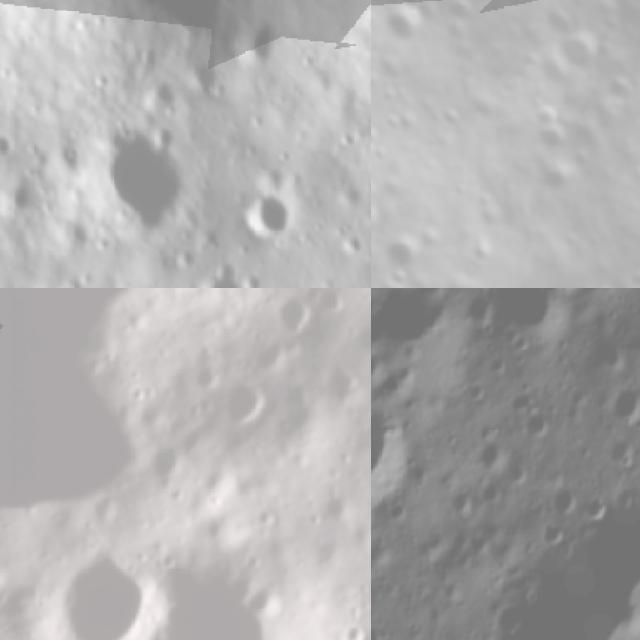crater: (0, 288, 265, 530), (80, 122, 201, 245), (138, 560, 289, 640), (57, 542, 163, 640), (83, 0, 260, 50), (371, 288, 468, 366), (371, 381, 428, 512), (479, 288, 584, 359), (567, 322, 633, 385), (548, 25, 608, 86), (371, 288, 409, 384), (236, 187, 299, 243), (220, 371, 276, 434), (520, 42, 576, 100), (371, 352, 425, 409), (526, 151, 582, 203), (182, 249, 255, 288), (378, 1, 427, 59), (377, 228, 430, 280), (598, 378, 640, 438), (594, 428, 640, 482), (470, 432, 517, 481), (541, 477, 587, 525), (244, 17, 285, 70), (525, 116, 571, 161), (272, 292, 316, 339), (324, 362, 366, 411), (437, 480, 482, 524), (1, 178, 44, 224), (245, 577, 286, 625), (537, 0, 581, 44), (489, 598, 530, 640), (529, 512, 571, 552), (527, 97, 568, 135), (520, 409, 560, 446), (149, 444, 187, 482), (321, 488, 355, 527), (578, 492, 612, 530), (196, 355, 227, 393), (314, 288, 353, 318), (482, 352, 515, 386), (285, 374, 314, 412), (123, 377, 156, 409), (0, 126, 17, 163), (334, 621, 365, 640)
